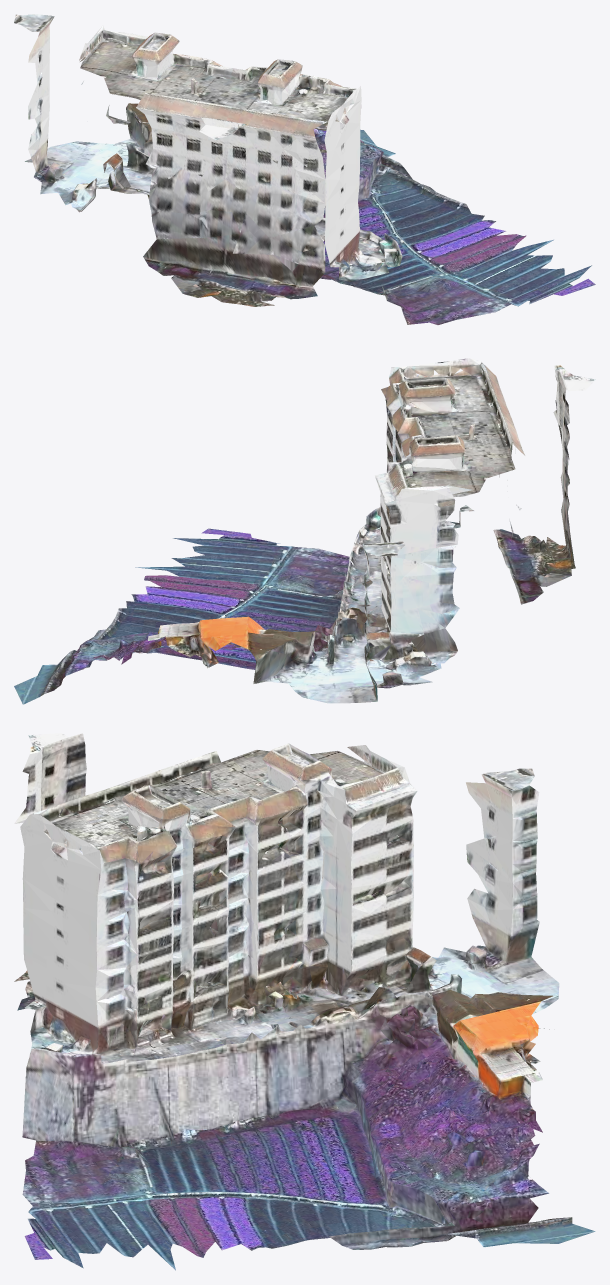
File: Tile_+011_+018_L19_000001.glb
3 renders of one model, top to bottom at view 1: azimuth 30°, elevation 25°; view 2: azimuth 150°, elevation 25°; view 3: azimuth 270°, elevation 25°, orthographic. The views are drawn at different scales.
Visible parts, largest first — view 1: rtc; view 2: rtc; view 3: rtc.
Boxes of the visible parts, x1,y1,x2,y2 form: rtc: (14,14,595,324); rtc: (14,358,595,704); rtc: (14,733,595,1270).
Size of the model in its own units: 59.97 by 34.8 by 59.56.
1 material, 1 textured.
